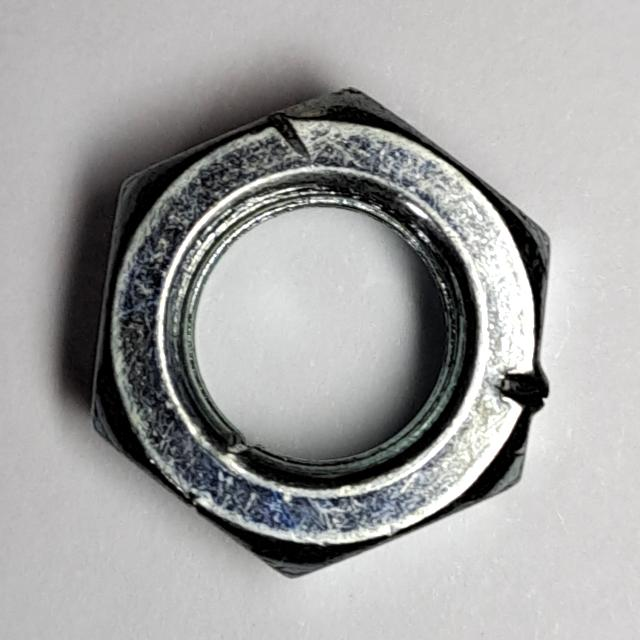Scratches: (83, 75, 563, 600)
